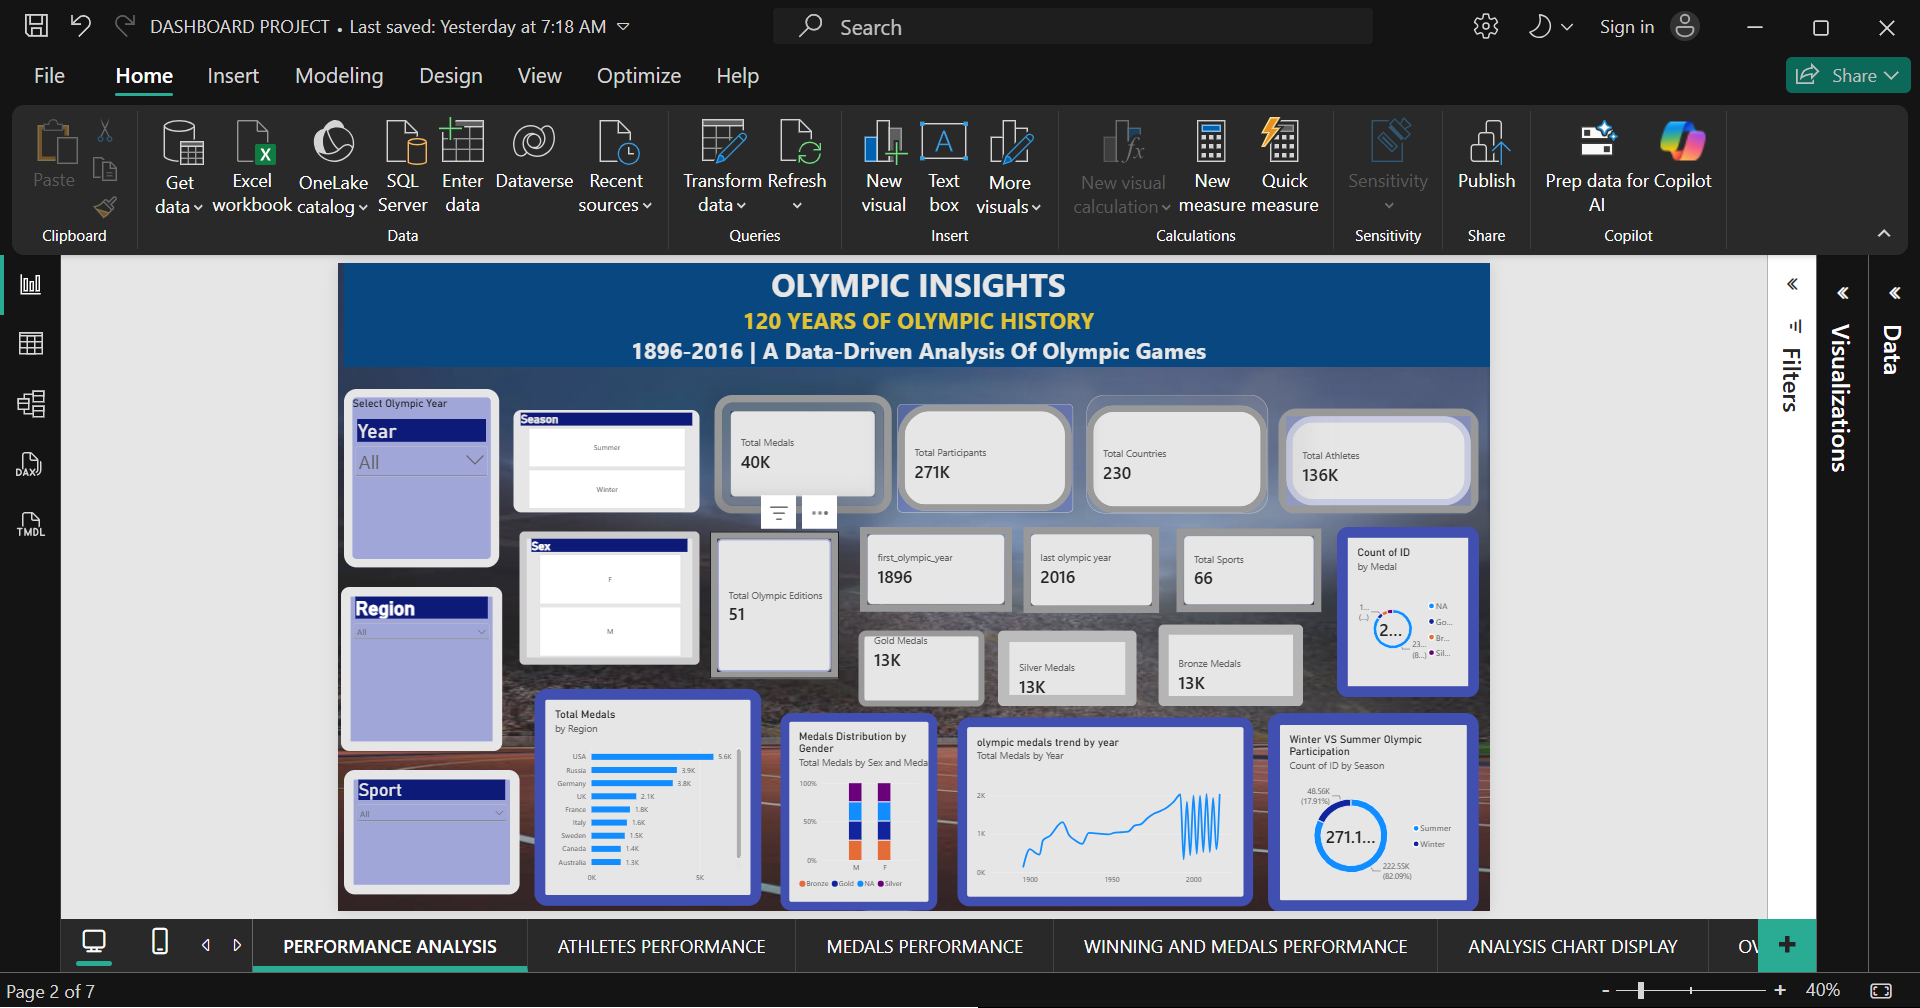

Layout of this report page (visuals, bound fields, positions):
{"tool":"powerbi","page":{"name":"PERFORMANCE ANALYSIS ","canvas":[1920,1080],"ordinal":1},"visuals":[{"type":"cardVisual","fields":{"Data":["athlete_events.Total Medals"]},"box":[627,219.6,295.2,197.6],"z":0},{"type":"cardVisual","fields":{"Data":["athlete_events.Total Athletes"]},"box":[1566.4,241.5,334.3,175.7],"z":1000},{"type":"cardVisual","fields":{"Data":["athlete_events.Total Countries"]},"box":[1246.7,219.6,302.5,197.6],"z":5000},{"type":"cardVisual","fields":{"Data":["athlete_events.Total Sports"]},"box":[1398,441.6,241.5,139.1],"z":6000},{"type":"cardVisual","fields":{"Data":["athlete_events.Total Participants"]},"box":[932,234.2,292.8,180.5],"z":9000},{"type":"cardVisual","fields":{"Data":["athlete_events.Total Olympic Editions"]},"box":[619.7,446.5,214.7,246.4],"z":13000},{"type":"cardVisual","fields":{"Data":["athlete_events.first_olympic_year"]},"box":[871,439.2,253.7,141.5],"z":14000},{"type":"cardVisual","fields":{"Data":["athlete_events.last olympic year"]},"box":[1141.8,439.2,226.9,143.9],"z":31001},{"type":"textbox","box":[9.8,0,1915.3,173.2],"z":31002},{"type":"barChart","fields":{"Category":["noc_regions.Region "],"Y":["athlete_events.Total Medals"]},"box":[326.9,710,378.2,361.1],"z":31003},{"type":"hundredPercentStackedColumnChart","title":"Medals Distribution by Gender","fields":{"Category":["athlete_events.Sex"],"Series":["athlete_events.Medal"],"Y":["athlete_events.Total Medals"]},"box":[736.8,749,261.1,329.4],"z":31004},{"type":"lineChart","title":"olympic medals trend by year ","fields":{"Category":["athlete_events.Year"],"Y":["athlete_events.Total Medals"]},"box":[1032,756.3,492.8,314.7],"z":31005},{"type":"donutChart","title":"Winter VS Summer Olympic Participation ","fields":{"Category":["athlete_events.Season"],"Y":["CountNonNull(athlete_events.ID)"]},"box":[1549.3,749,351.3,331.8],"z":31006},{"type":"donutChart","fields":{"Category":["athlete_events.Medal"],"Y":["CountNonNull(athlete_events.ID)"]},"box":[1664,439.2,236.7,283],"z":31007},{"type":"slicer","title":"Select Olympic Year ","fields":{"Values":["athlete_events.Year"]},"box":[9.8,209.8,258.6,297.7],"z":31008},{"type":"slicer","fields":{"Values":["noc_regions.Region "]},"box":[4.9,539.2,268.4,273.3],"z":31009},{"type":"slicer","fields":{"Values":["athlete_events.Season"]},"box":[292.8,244,309.9,170.8],"z":31010},{"type":"slicer","fields":{"Values":["athlete_events.Sex"]},"box":[302.5,446.5,300.1,222],"z":31011},{"type":"slicer","fields":{"Values":["athlete_events.Sport"]},"box":[9.8,844.2,292.8,207.4],"z":31012},{"type":"cardVisual","fields":{"Data":["athlete_events.Gold Medals"]},"box":[868.6,612.4,209.8,126.9],"z":31013},{"type":"cardVisual","fields":{"Data":["athlete_events.Silver Medals"]},"box":[1100.4,612.4,231.8,126.9],"z":31014},{"type":"cardVisual","fields":{"Data":["athlete_events.Bronze  Medals"]},"box":[1368.7,602.6,241.5,136.6],"z":31015}]}

Visuals, with their boxes on the page's 1920x1080 design canvas (x1, y1, x2, y2). These are canvas units, not pixel positions in the 1920x1008 screenshot, which may show the page scaled, cropped or inside an application window:
cardVisual - athlete_events.Total Medals: (left=627, top=220, right=922, bottom=417)
cardVisual - athlete_events.Total Athletes: (left=1566, top=242, right=1901, bottom=417)
cardVisual - athlete_events.Total Countries: (left=1247, top=220, right=1549, bottom=417)
cardVisual - athlete_events.Total Sports: (left=1398, top=442, right=1640, bottom=581)
cardVisual - athlete_events.Total Participants: (left=932, top=234, right=1225, bottom=415)
cardVisual - athlete_events.Total Olympic Editions: (left=620, top=446, right=834, bottom=693)
cardVisual - athlete_events.first_olympic_year: (left=871, top=439, right=1125, bottom=581)
cardVisual - athlete_events.last olympic year: (left=1142, top=439, right=1369, bottom=583)
textbox: (left=10, top=0, right=1925, bottom=173)
barChart - noc_regions.Region  x athlete_events.Total Medals: (left=327, top=710, right=705, bottom=1071)
"Medals Distribution by Gender" hundredPercentStackedColumnChart: (left=737, top=749, right=998, bottom=1078)
"olympic medals trend by year " lineChart: (left=1032, top=756, right=1525, bottom=1071)
"Winter VS Summer Olympic Participation " donutChart: (left=1549, top=749, right=1901, bottom=1081)
donutChart - athlete_events.Medal x CountNonNull(athlete_events.ID): (left=1664, top=439, right=1901, bottom=722)
"Select Olympic Year " slicer: (left=10, top=210, right=268, bottom=508)
slicer - noc_regions.Region : (left=5, top=539, right=273, bottom=812)
slicer - athlete_events.Season: (left=293, top=244, right=603, bottom=415)
slicer - athlete_events.Sex: (left=302, top=446, right=603, bottom=668)
slicer - athlete_events.Sport: (left=10, top=844, right=303, bottom=1052)
cardVisual - athlete_events.Gold Medals: (left=869, top=612, right=1078, bottom=739)
cardVisual - athlete_events.Silver Medals: (left=1100, top=612, right=1332, bottom=739)
cardVisual - athlete_events.Bronze  Medals: (left=1369, top=603, right=1610, bottom=739)
